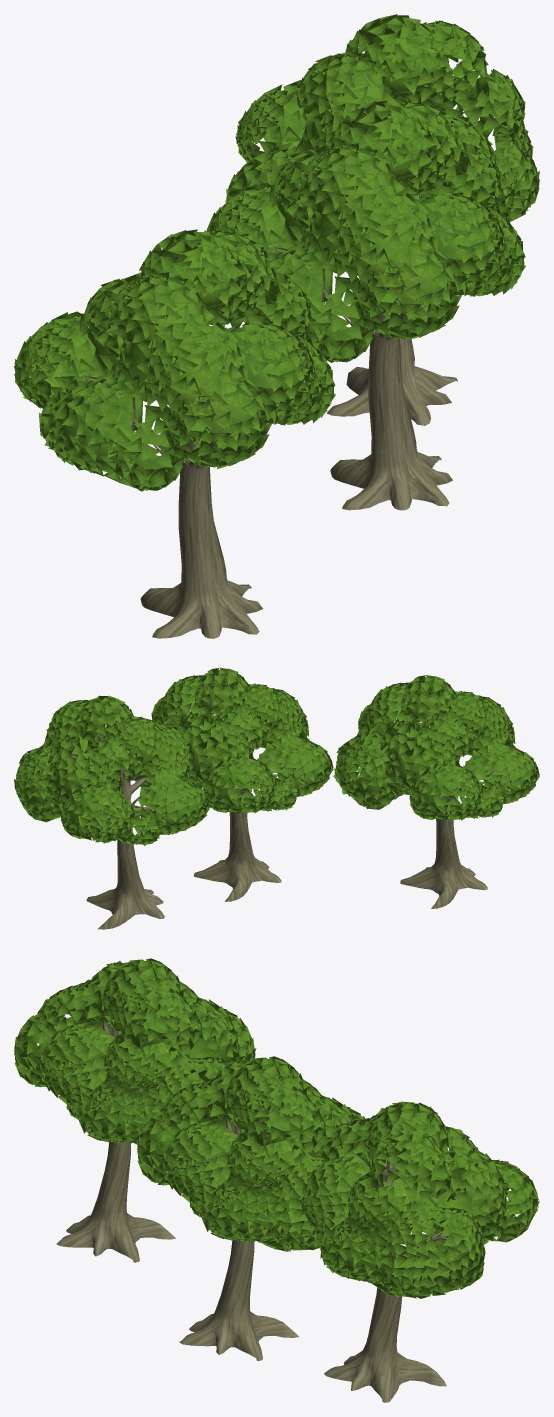
The model's file is SM_ENV_LKNVLD_TreeSet_C.FBX.
3 views of the same model, one above another, from view 1: azimuth 30°, elevation 25°; view 2: azimuth 150°, elevation 25°; view 3: azimuth 270°, elevation 25° (orthographic). The views are drawn at different scales.
Parts seen in each view (by area): view 1: SM_ENV_LKNVLD_TreeSet_C; view 2: SM_ENV_LKNVLD_TreeSet_C; view 3: SM_ENV_LKNVLD_TreeSet_C.
Part boxes in pixels (left/top/right/bottom): SM_ENV_LKNVLD_TreeSet_C: left=14, top=14, right=539, bottom=638; SM_ENV_LKNVLD_TreeSet_C: left=14, top=667, right=539, bottom=929; SM_ENV_LKNVLD_TreeSet_C: left=14, top=958, right=539, bottom=1402.
Bounding box in the file's own units: 1721 × 919 × 1512.
